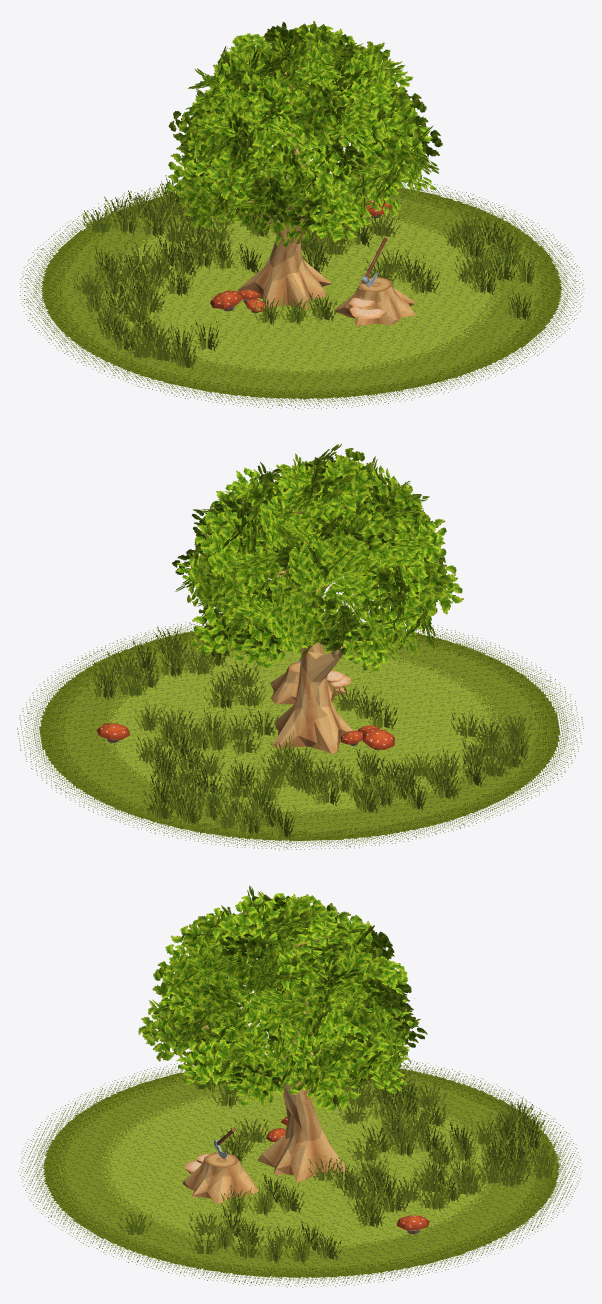
The model's file is low_poly_tree.glb.
The picture shows the model from 3 angles, top to bottom: view 1: azimuth 30°, elevation 25°; view 2: azimuth 150°, elevation 25°; view 3: azimuth 270°, elevation 25°; orthographic projection.
Parts seen in each view (by area): view 1: Base, Plane.1065, Plane.336, Trunk, Stump; view 2: Base, Plane.1065, Plane.336, Trunk, Stump, Mushroom.001; view 3: Base, Plane.1065, Plane.336, Trunk, Stump.
Part boxes in pixels (box(x1,y1,x2,y2)): Base: box(20, 173, 584, 409); Plane.1065: box(165, 21, 442, 246); Plane.336: box(73, 175, 541, 370); Trunk: box(237, 46, 379, 309); Stump: box(334, 276, 415, 326); Base: box(17, 619, 583, 850); Plane.1065: box(172, 444, 463, 673); Plane.336: box(87, 624, 536, 838); Trunk: box(252, 469, 382, 753); Stump: box(270, 662, 348, 704); Mushroom.001: box(362, 728, 394, 749); Base: box(18, 1056, 582, 1287); Plane.1065: box(138, 885, 427, 1111); Plane.336: box(118, 1053, 560, 1265); Trunk: box(193, 916, 346, 1182); Stump: box(182, 1152, 258, 1203).
Bounding box in the file's own units: 21.76 × 12.04 × 21.76.
Materials: 8 (8 with a texture image).
